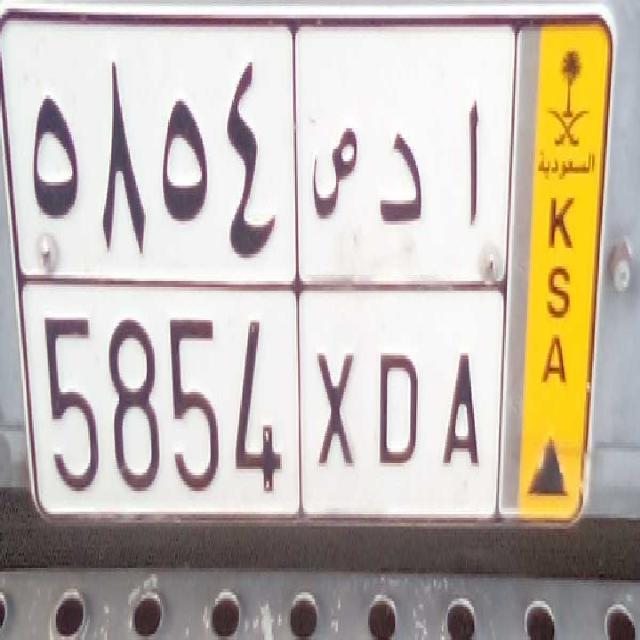license_plate: (32, 275, 491, 503)
